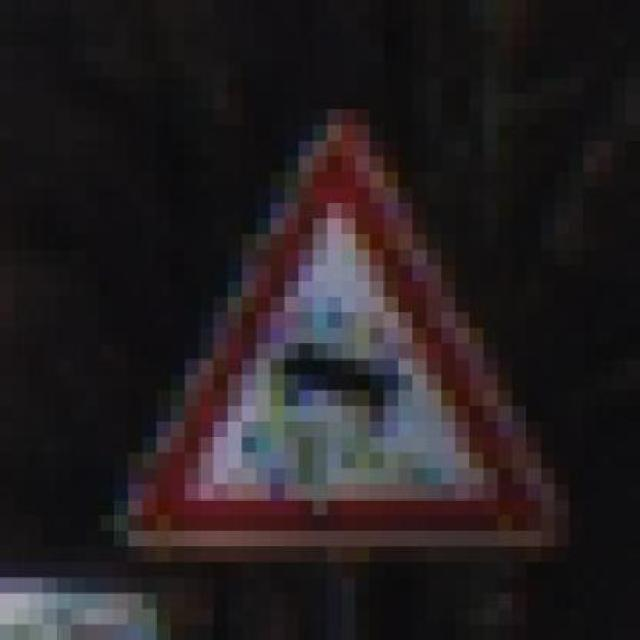Slippery Road Ahead: (104, 103, 574, 572)
